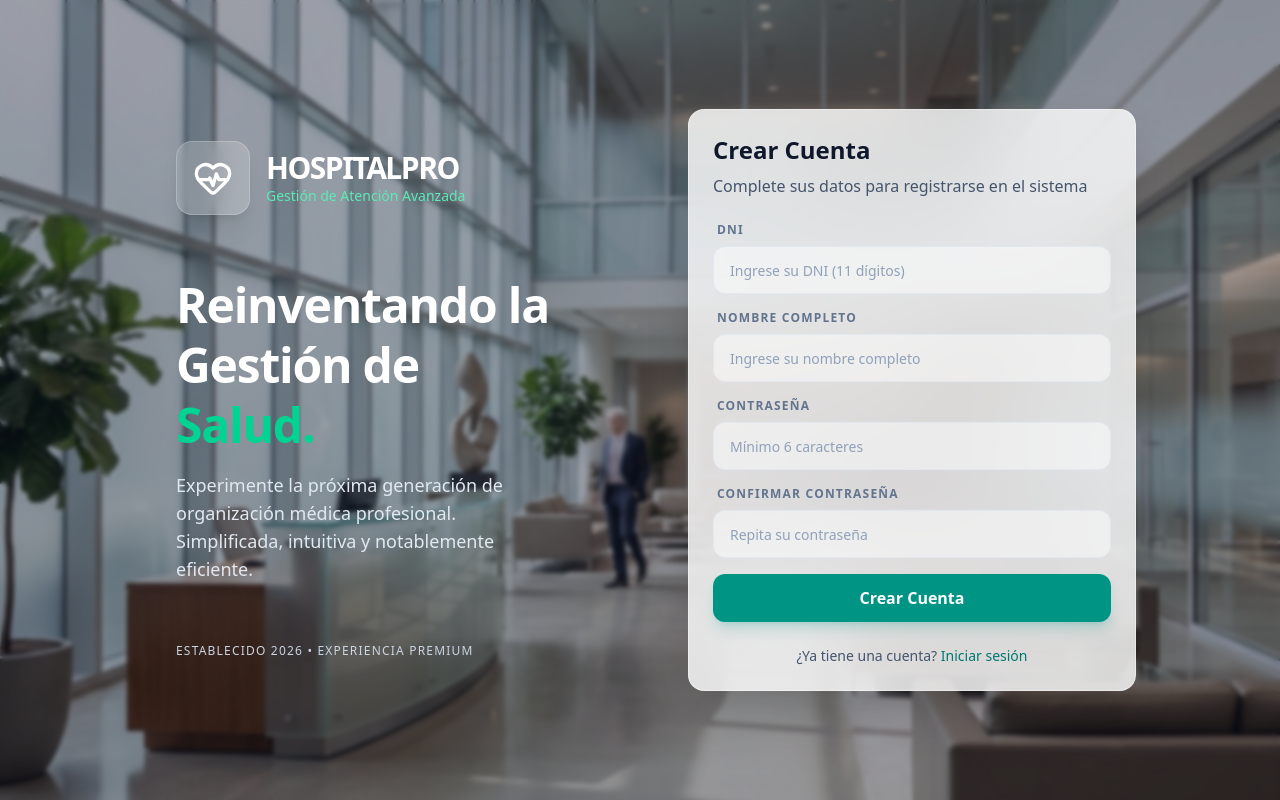
Register › validates DNI format
The image size is (1280, 800).
In the field labelled "DNI": (912, 270) [713, 246, 1111, 294], type "abcdefghijk"
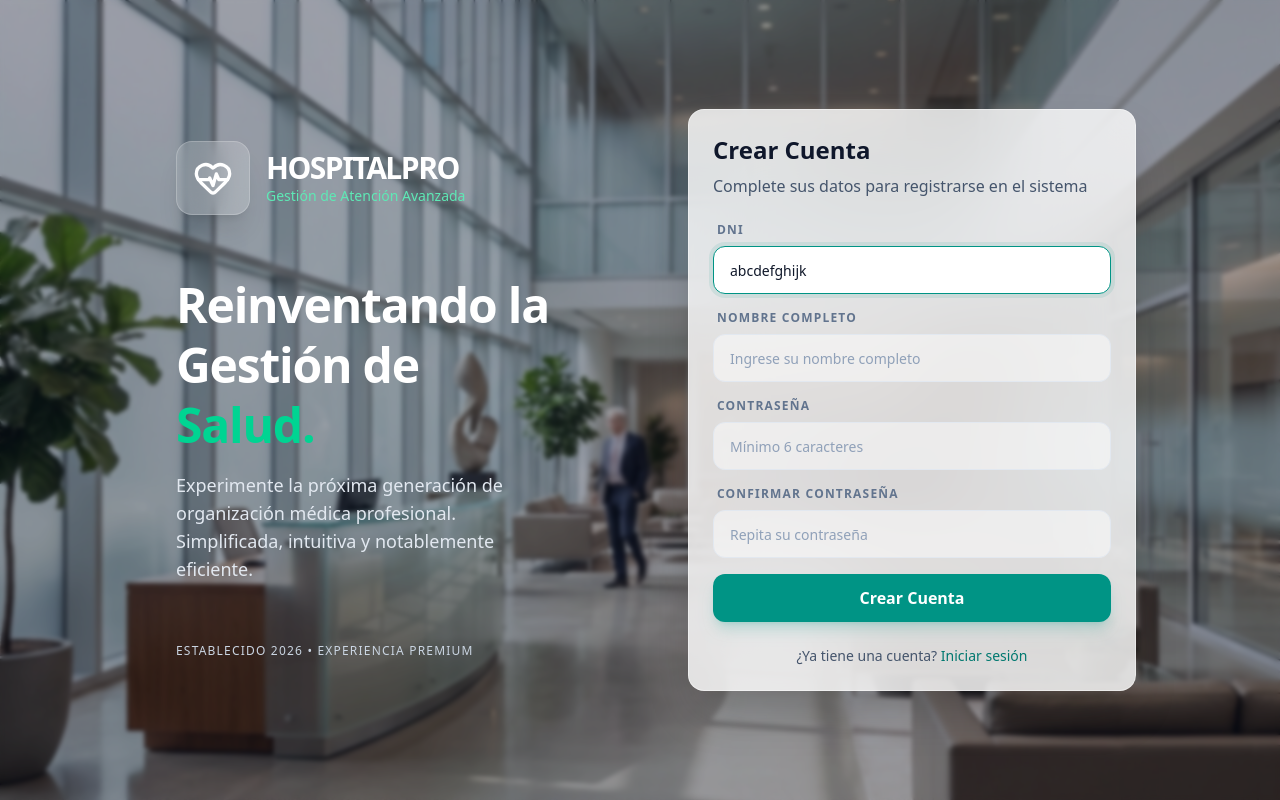
Click the button "Crear Cuenta": (912, 598) [713, 574, 1111, 622]
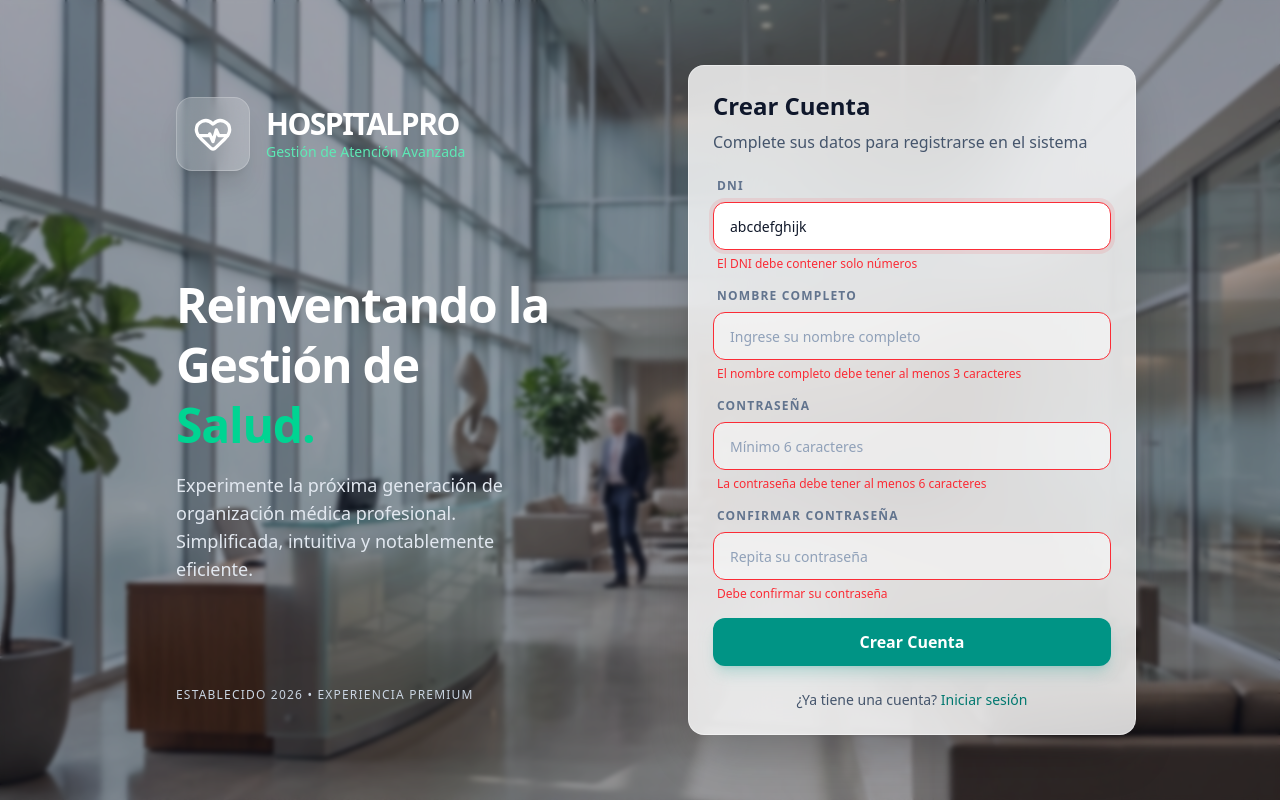
Check: the text "El DNI debe contener solo números" is shown, box [717, 255, 917, 272]
